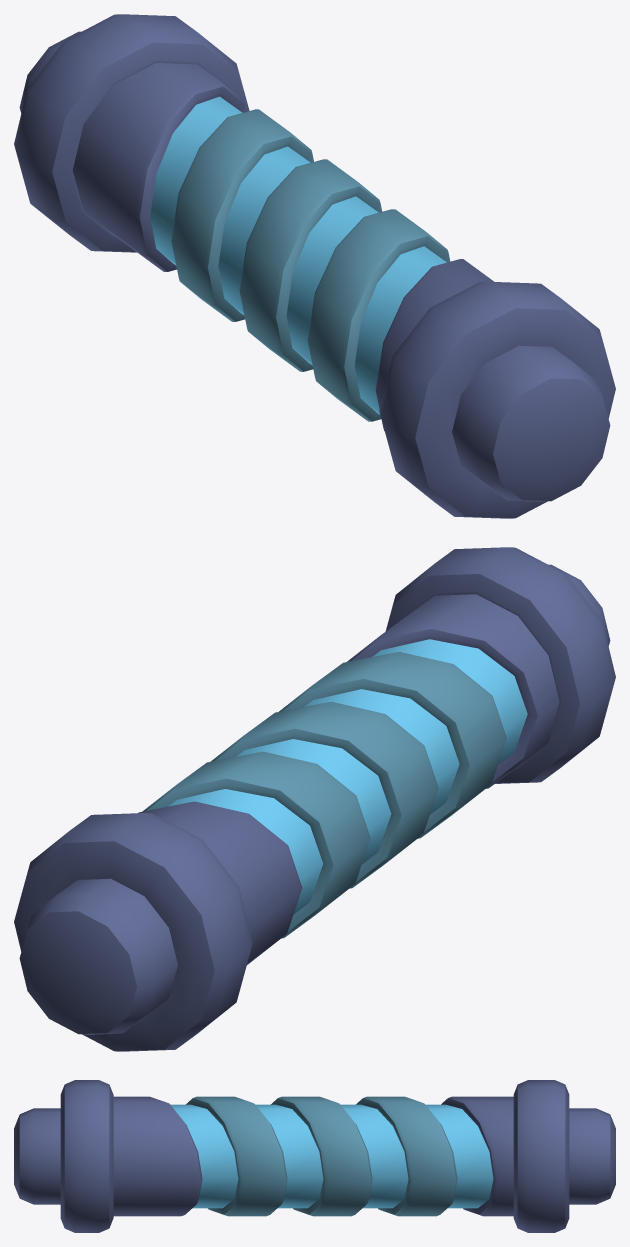
Rendered from spare part 4.fbx.
3 views of the same model, one above another, from view 1: azimuth 30°, elevation 25°; view 2: azimuth 150°, elevation 25°; view 3: azimuth 270°, elevation 25° (orthographic). The views are drawn at different scales.
Visible parts, largest first — view 1: Cylinder.001; view 2: Cylinder.001; view 3: Cylinder.001.
Boxes of the visible parts, left/top/right/bottom form: Cylinder.001: left=14, top=14, right=615, bottom=518; Cylinder.001: left=14, top=547, right=615, bottom=1051; Cylinder.001: left=14, top=1080, right=615, bottom=1232.
Bounding box in the file's own units: 0.3503 × 0.3503 × 1.38.
